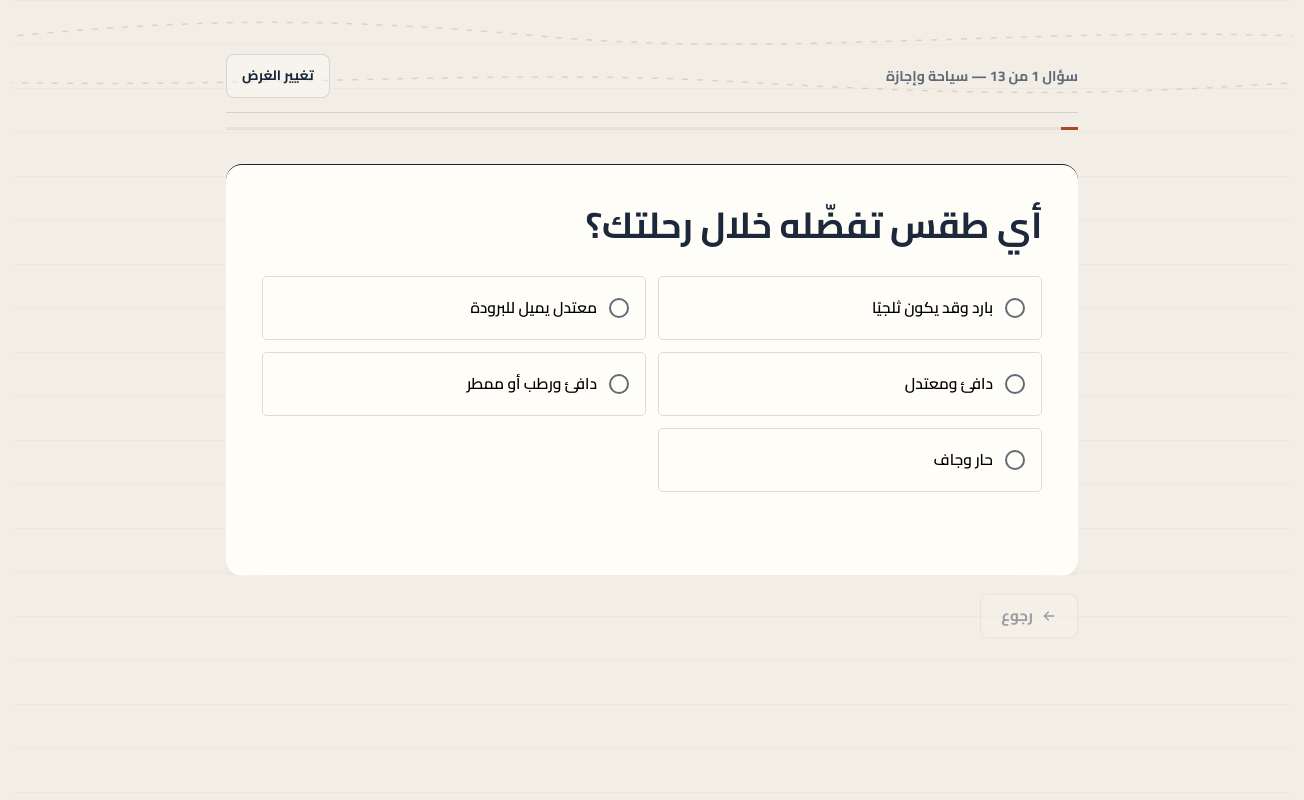
Scenario: the passport step sits between the questionnaire and the results › is reached from "show results now" instead of going straight to results
The image size is (1304, 800).
Click the radio button labelled "بارد وقد يكون ثلجيًا".
click(932, 308)  # box [658,276,1042,340]
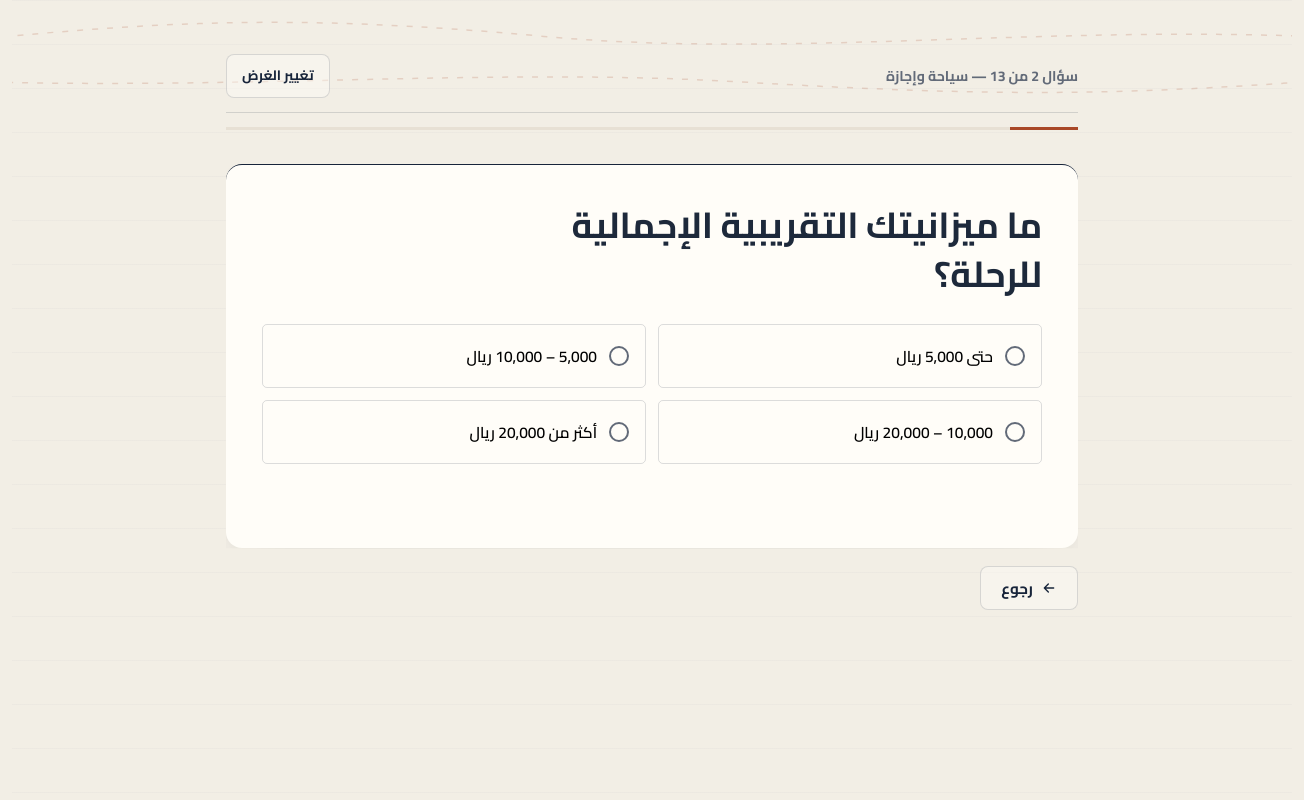
Click the radio button labelled "حتى 5,000 ريال".
click(944, 356)  # box [658,324,1042,388]
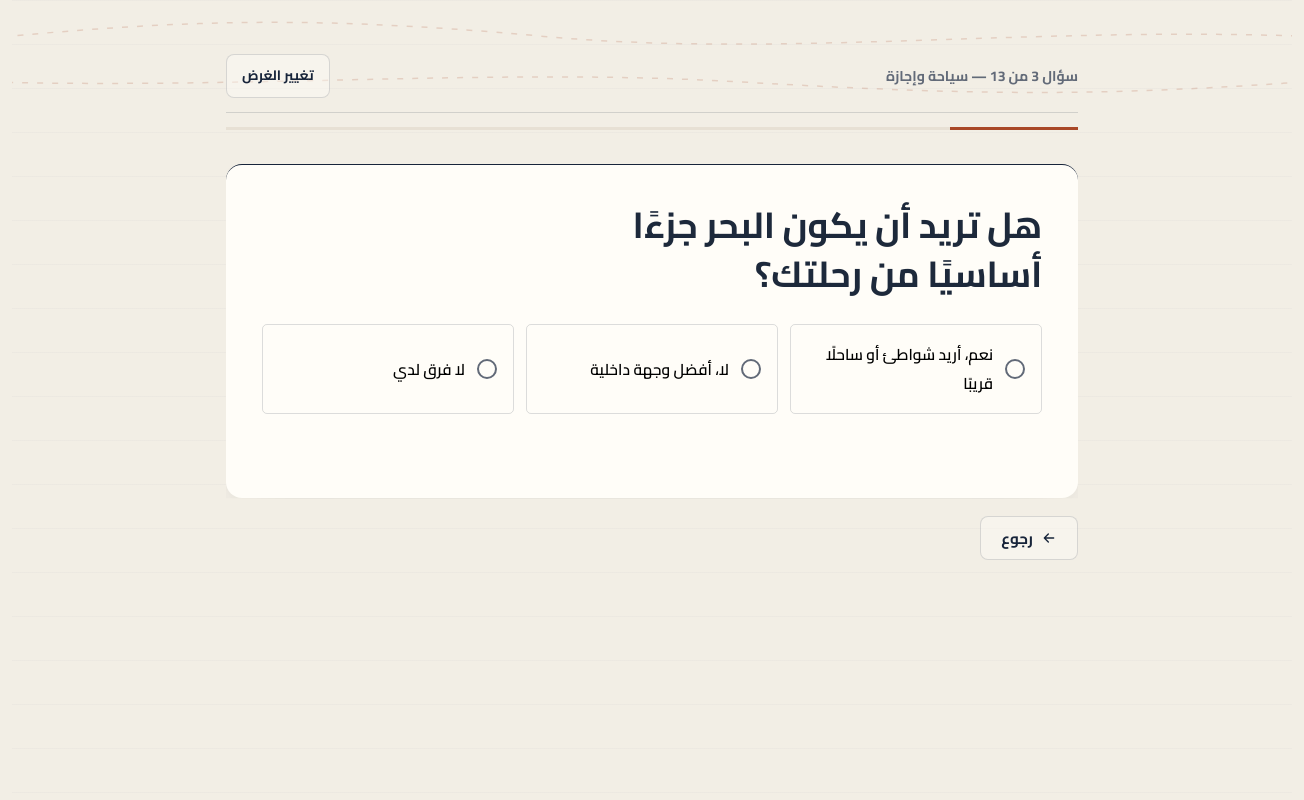
Click the radio button labelled "نعم، أريد شواطئ أو ساحلًا قريبًا".
click(916, 369)  # box [790,324,1042,414]
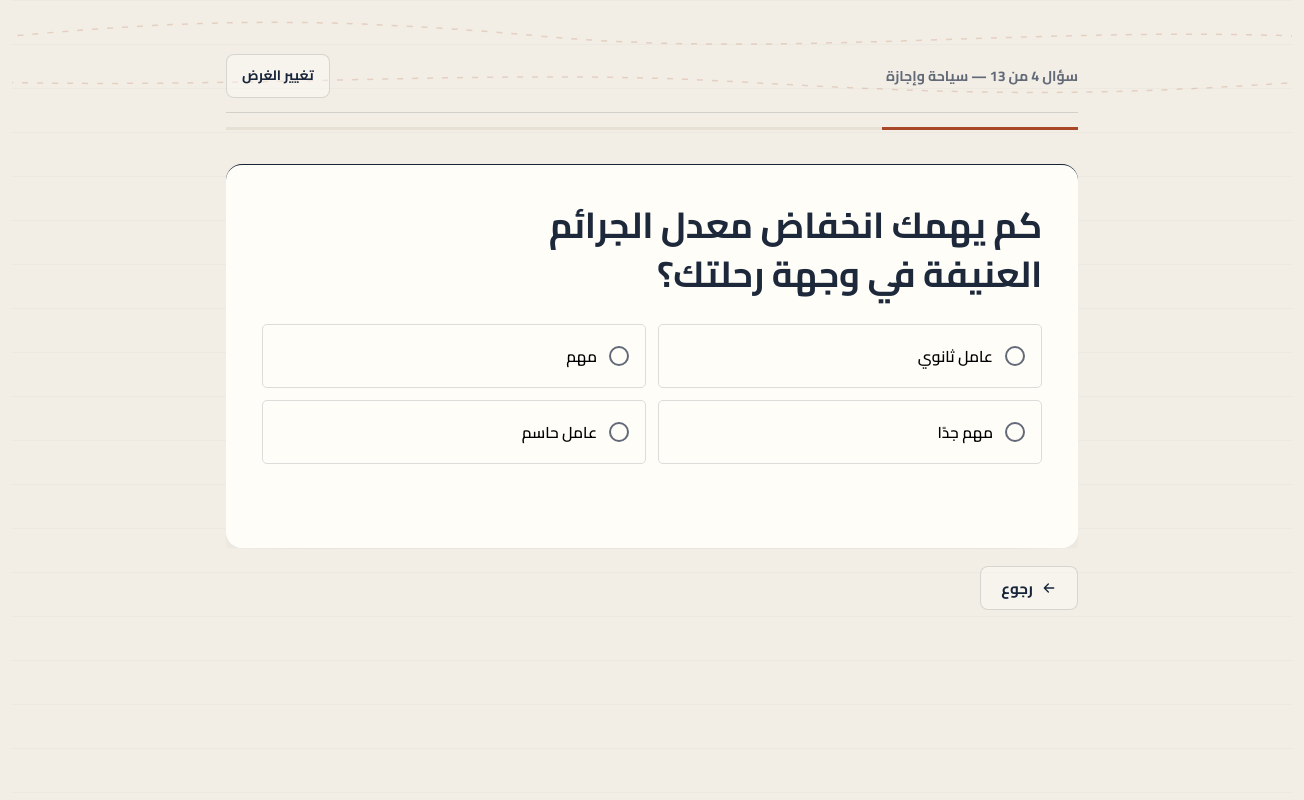
Click the radio button labelled "عامل ثانوي".
click(955, 356)  # box [658,324,1042,388]
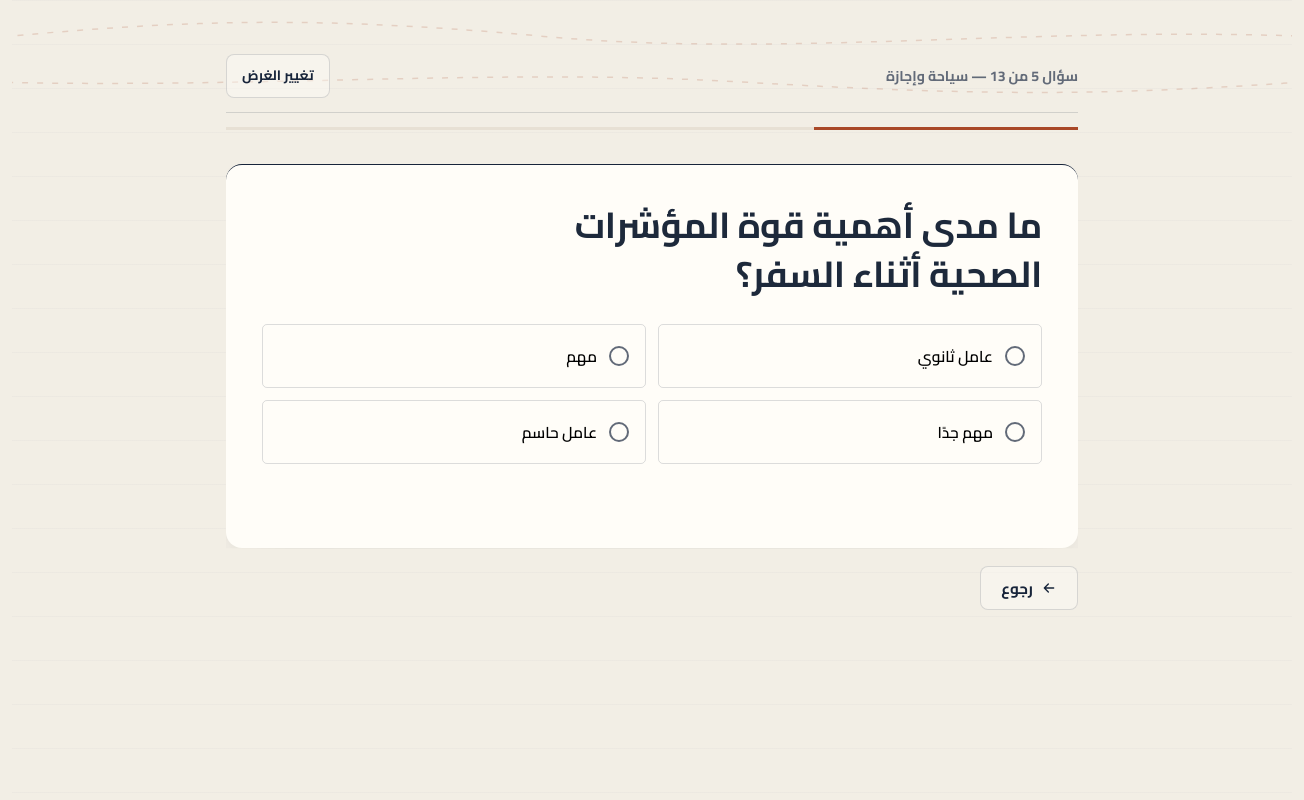
Click the radio button labelled "عامل ثانوي".
click(955, 356)  # box [658,324,1042,388]
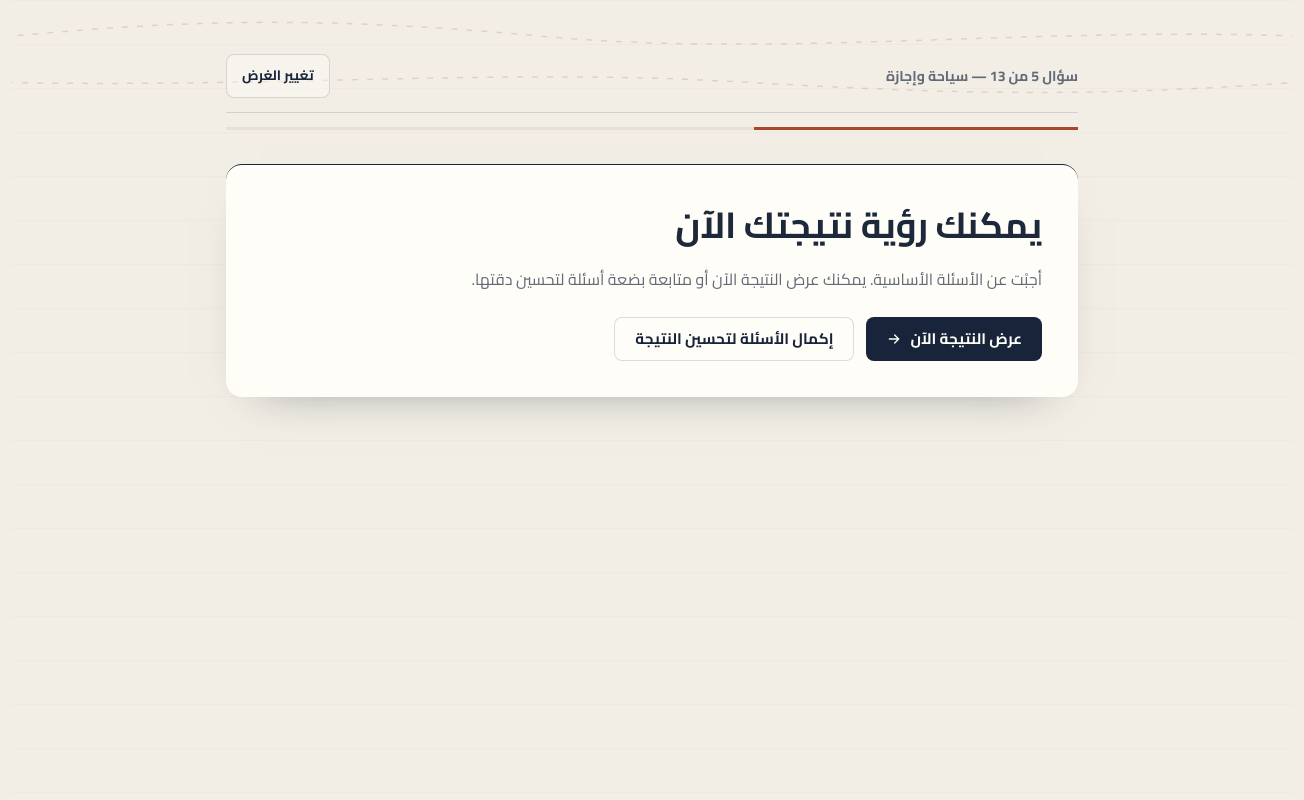
Click the button "عرض النتيجة الآن".
click(954, 339)  # box [866,317,1042,361]
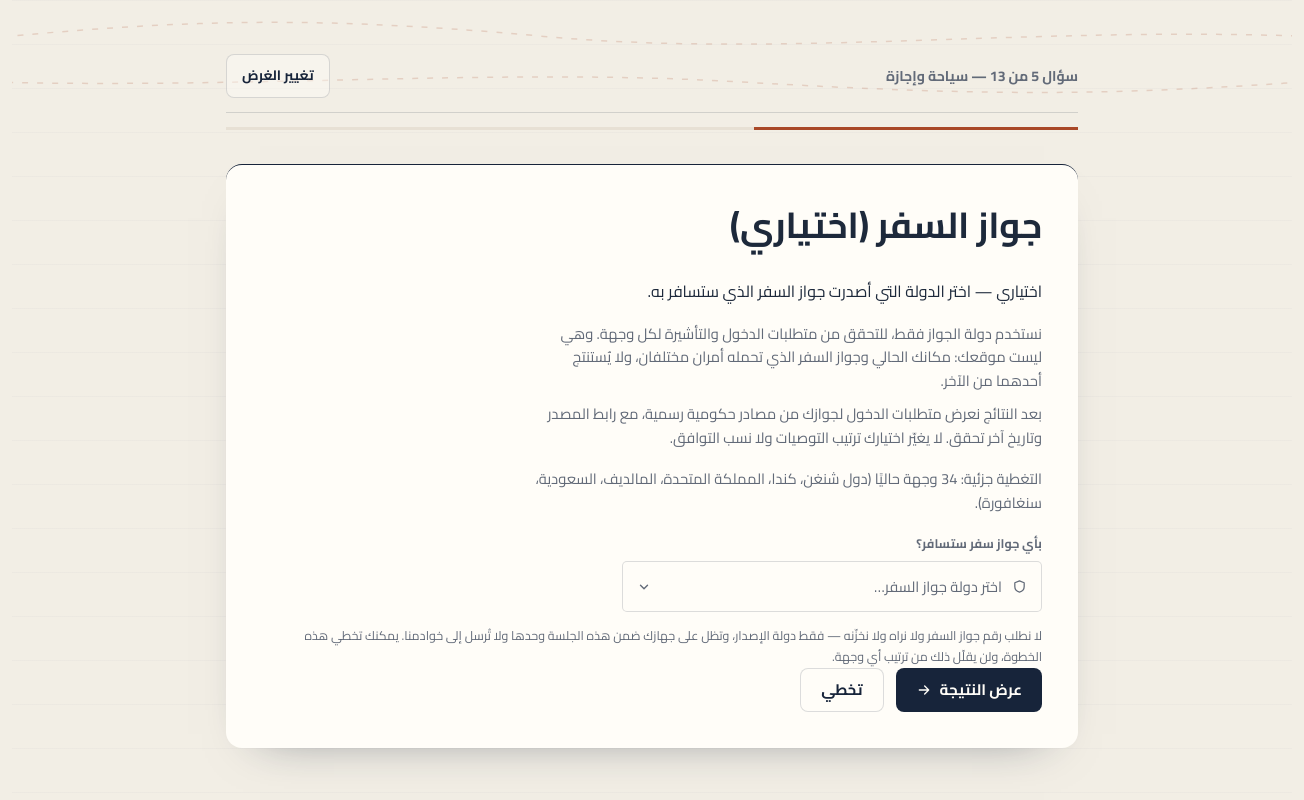
Expected: the heading "جواز السفر (اختياري)" is shown, [730,191,1042,259]
